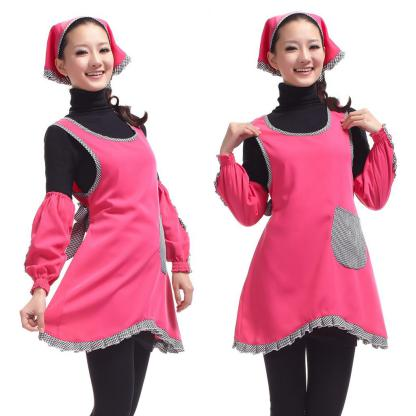face: (65, 25, 116, 92), (277, 21, 326, 87)
